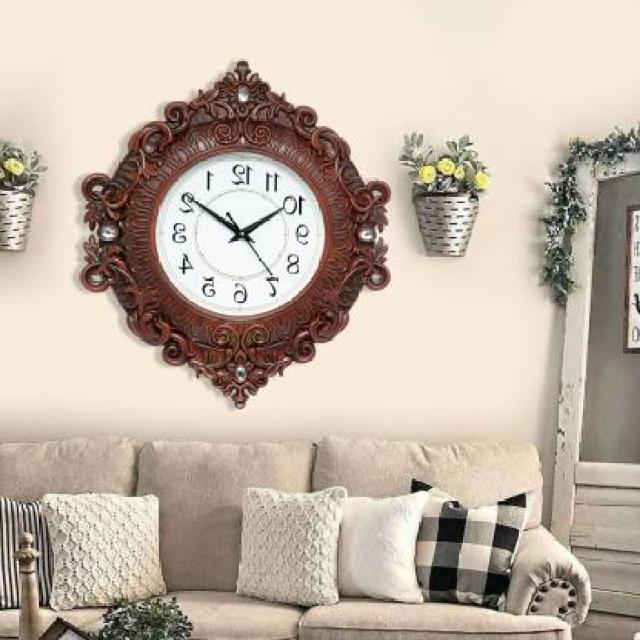clock: (0, 55, 423, 413)
